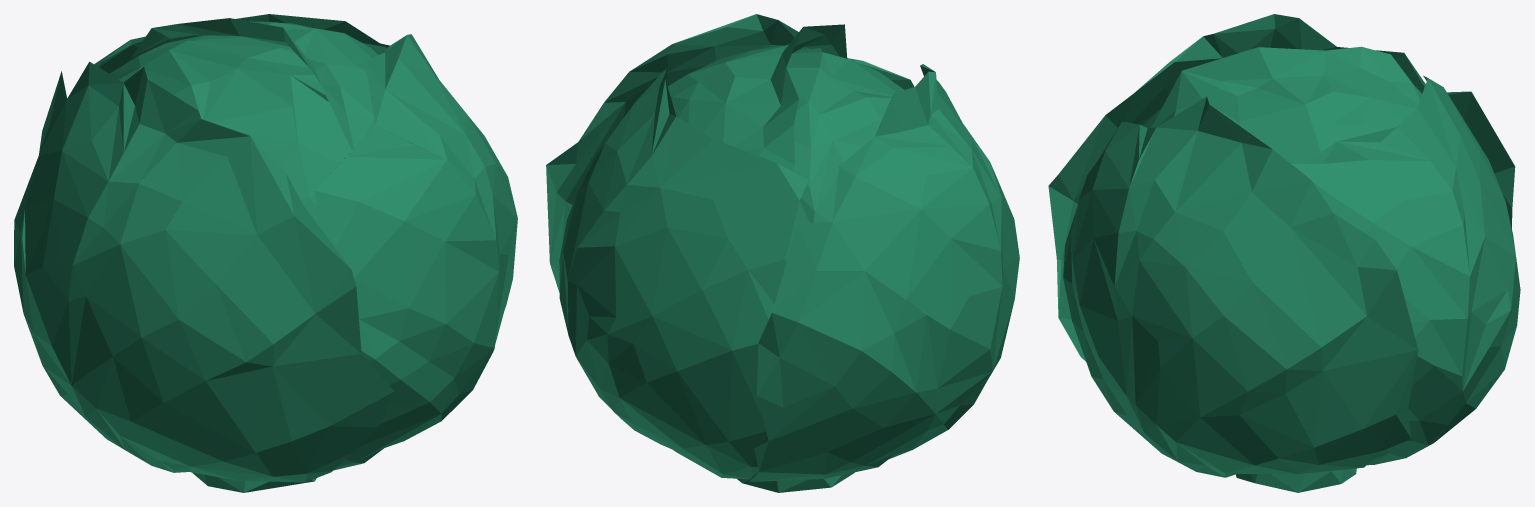
Rendered from Cabbage.FBX.
3 renders of one model, left to right at view 1: azimuth 30°, elevation 25°; view 2: azimuth 150°, elevation 25°; view 3: azimuth 270°, elevation 25°, orthographic. The views are drawn at different scales.
Visible parts, largest first — view 1: Cabbage; view 2: Cabbage; view 3: Cabbage.
Boxes of the visible parts, left/top/right/bottom form: Cabbage: left=14, top=14, right=517, bottom=492; Cabbage: left=546, top=14, right=1019, bottom=492; Cabbage: left=1048, top=14, right=1520, bottom=492.
Bounding box in the file's own units: 165 × 163 × 166.
